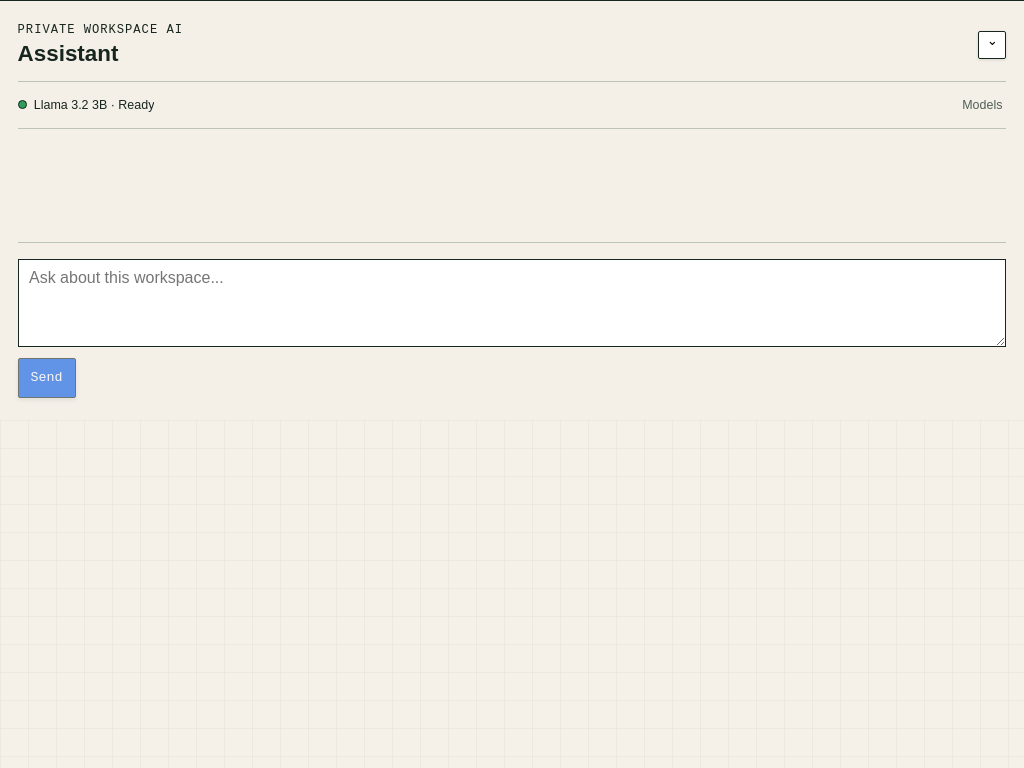
Test: AssistantPanel › marks a partial answer as cancelled instead of leaving it looking complete
Type "Long summary" into the text box named "Ask the workspace assistant" at (512, 303), box 18,259 -> 1006,347
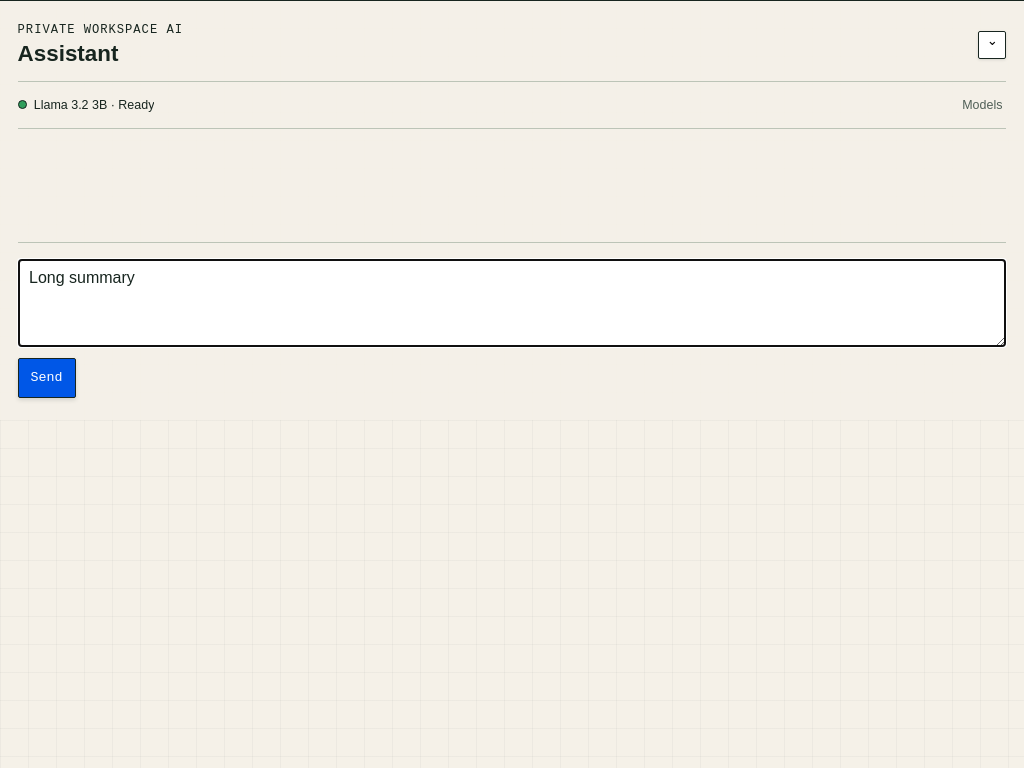
Click the button "Send" at (47, 378), box 18,358 -> 76,398
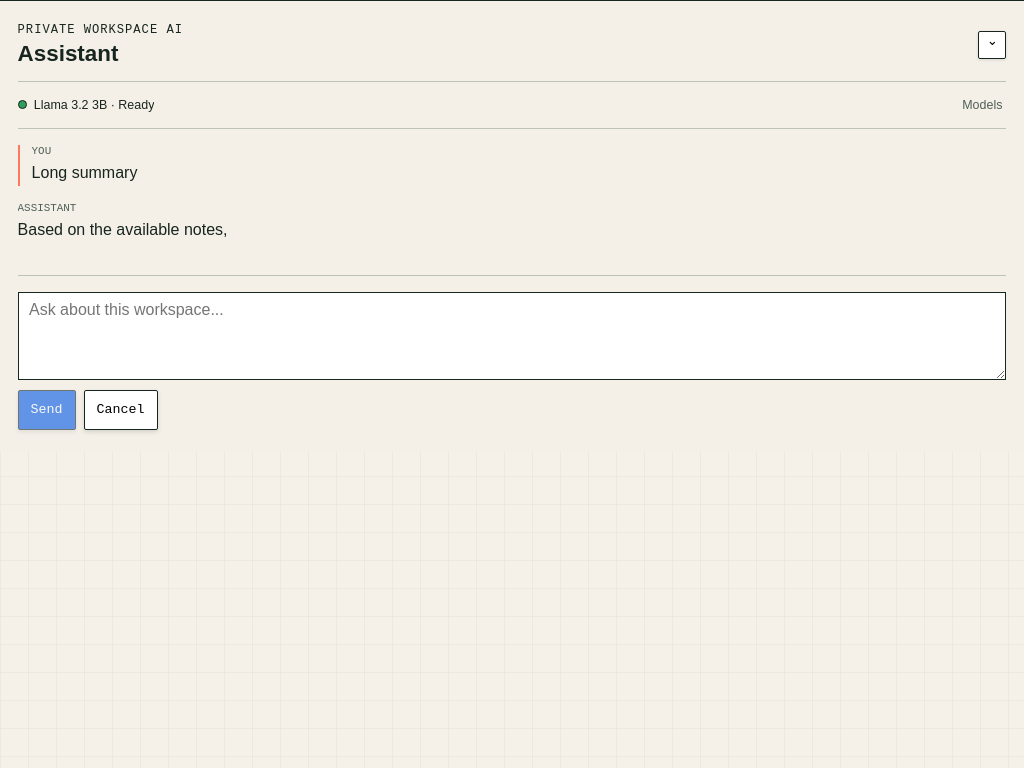
Click the button "Cancel" at (121, 410), box 84,390 -> 158,430
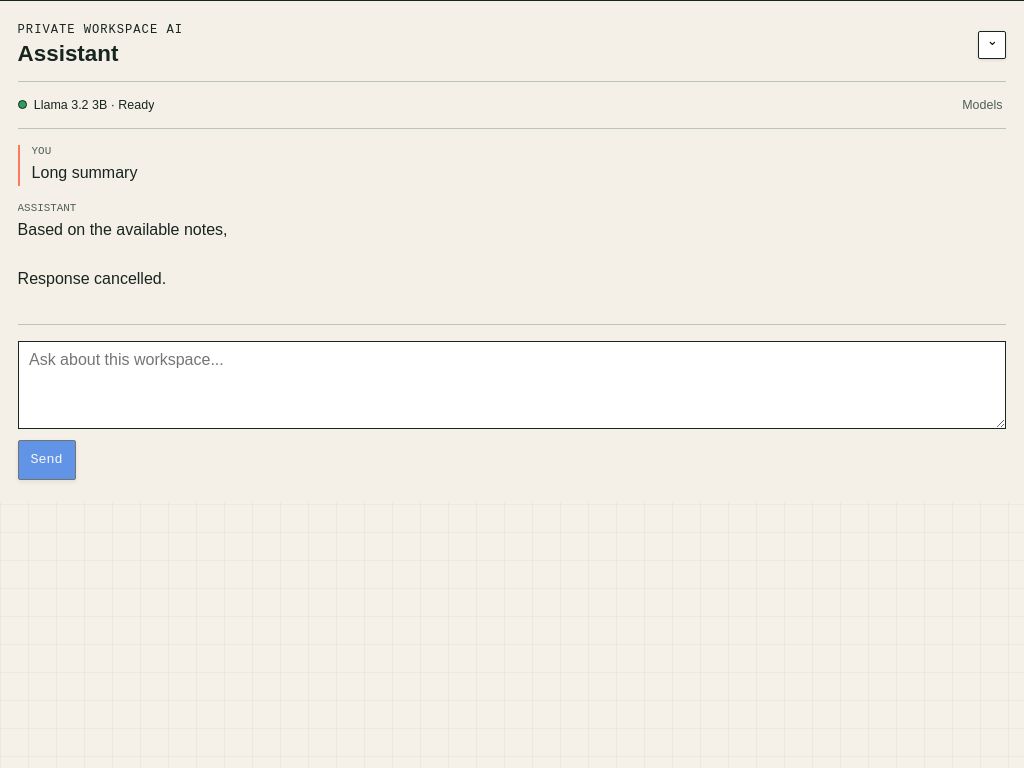
Result: the text "Based on the available notes, Response cancelled." is shown at 18,221 -> 228,287
